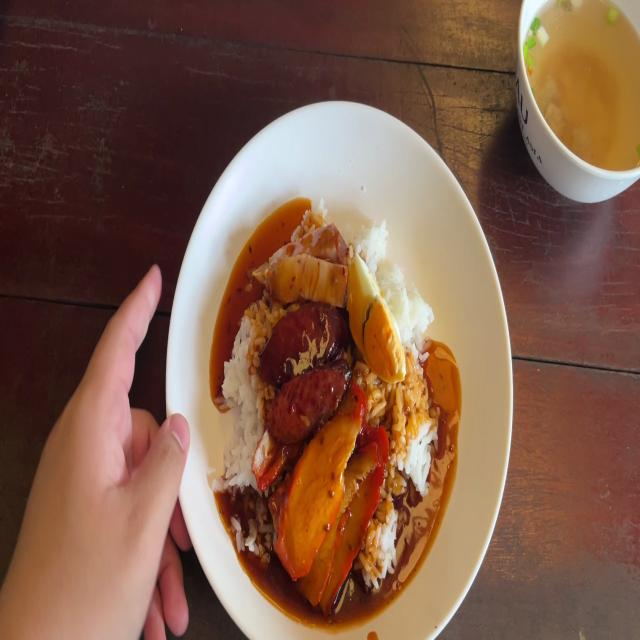01boiled_egg: (347, 252, 407, 384)
01chainese_sausage: (266, 312, 339, 418), (272, 368, 339, 445), (272, 313, 334, 362)
01crispy_pork: (254, 228, 347, 299), (258, 258, 344, 298)
01red_pork: (289, 402, 383, 590)
01red_pork_and_crispy_pork: (220, 198, 436, 590)
01rice: (227, 324, 264, 511), (390, 360, 432, 506), (382, 260, 432, 324), (369, 520, 400, 582)
